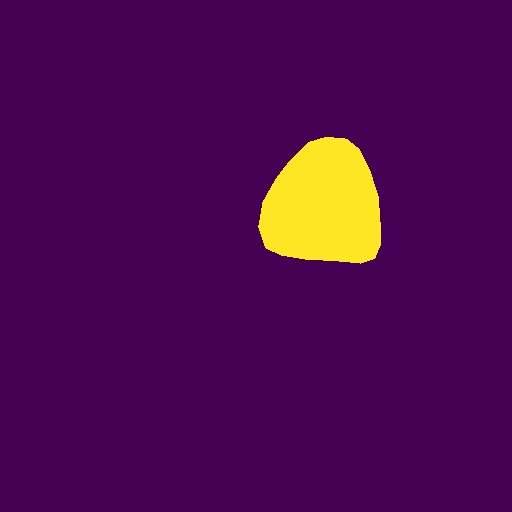Gliomia_tumour: (258, 137, 381, 264)
